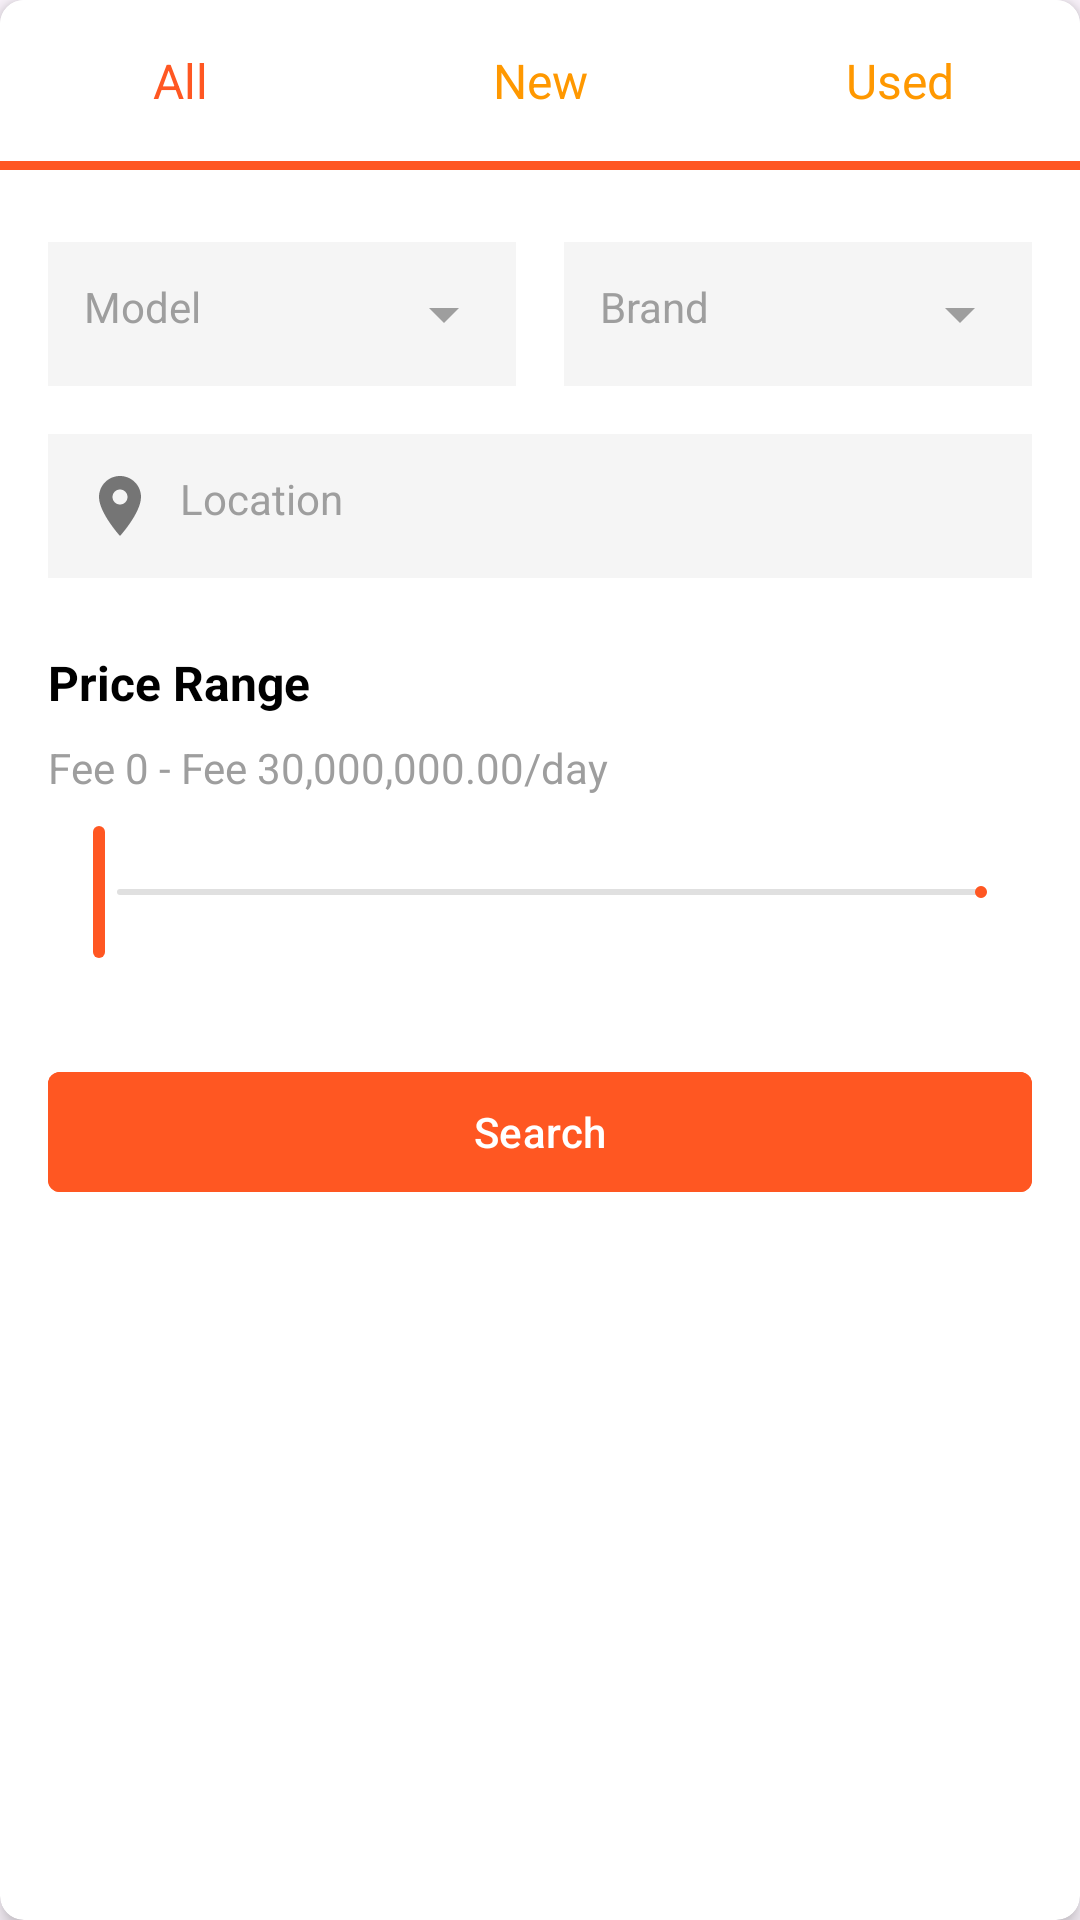

Icons on this 1080 × 1920 Android screen, each with the point to tap as (x=x, y=y):
dropdown: (x=444, y=315), (x=960, y=315)
